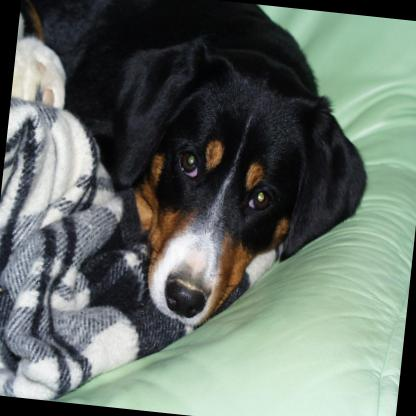EntleBucher: (0, 0, 386, 343)
